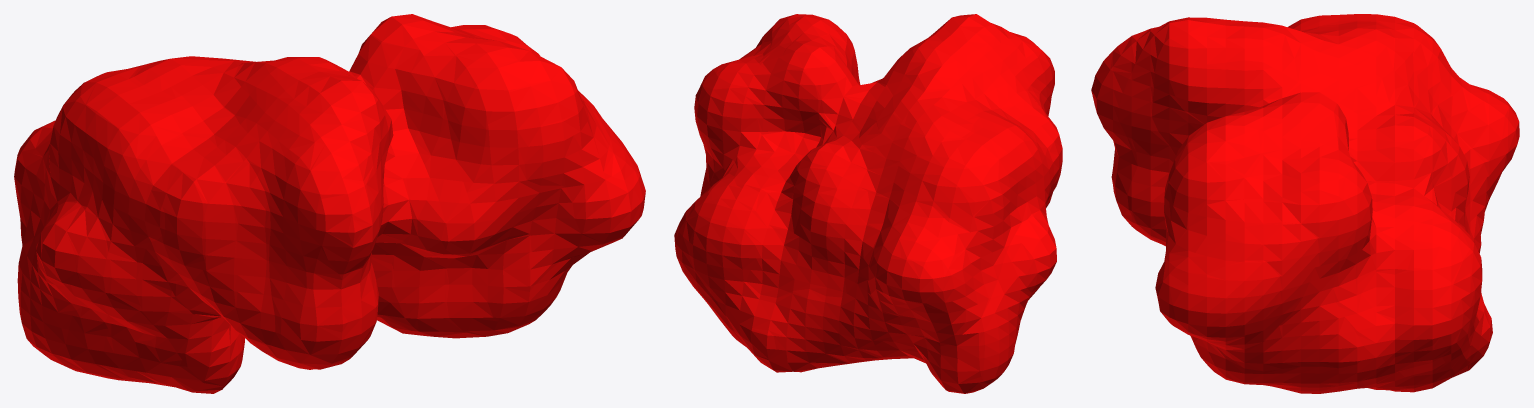
Rendered from Cystatin_N_coarse.dae.
The picture shows the model from 3 angles, left to right: view 1: azimuth 30°, elevation 25°; view 2: azimuth 150°, elevation 25°; view 3: azimuth 270°, elevation 25°; orthographic projection. The views are drawn at different scales.
Parts seen in each view (by area): view 1: Cystatin_N; view 2: Cystatin_N; view 3: Cystatin_N.
Part boxes in pixels (x1,y1,x2,y2): Cystatin_N: (14, 14, 645, 393); Cystatin_N: (674, 14, 1062, 393); Cystatin_N: (1091, 14, 1519, 393).
Bounding box in the file's own units: 62.03 × 41.86 × 51.25.
